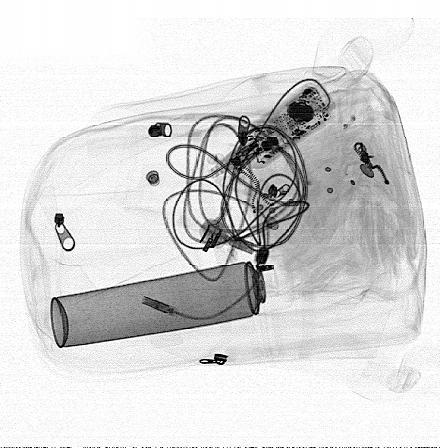Sprayer: (50, 256, 294, 349)
